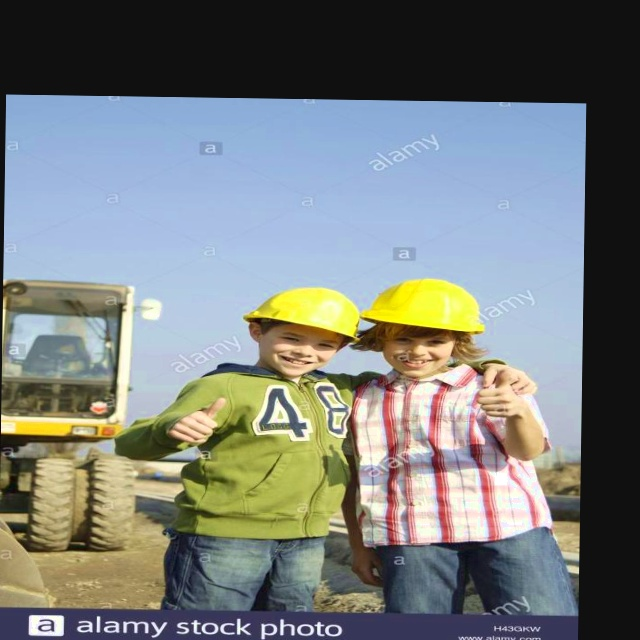Con_Casco: (244, 286, 364, 368), (366, 277, 478, 362)
Sin_Chaleco: (361, 373, 541, 536), (196, 374, 356, 537)
